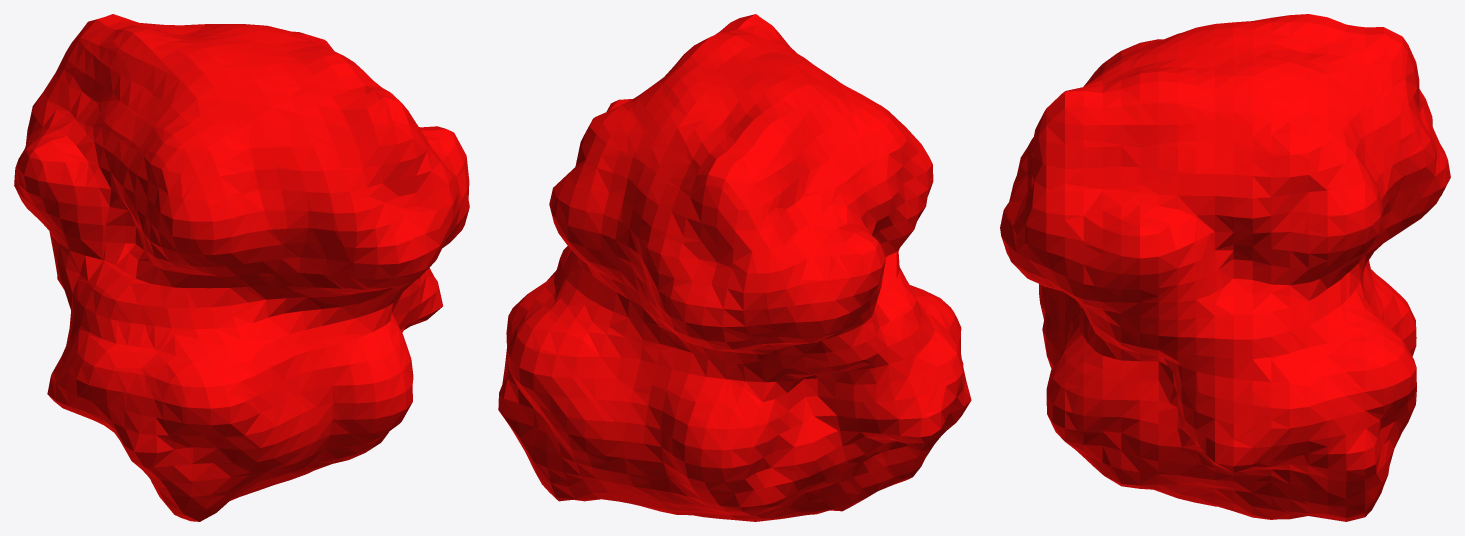
Rendered from menI_coarse.dae.
3 views of the same model, side by side, from view 1: azimuth 30°, elevation 25°; view 2: azimuth 150°, elevation 25°; view 3: azimuth 270°, elevation 25° (orthographic). The views are drawn at different scales.
Parts seen in each view (by area): view 1: menI; view 2: menI; view 3: menI.
Boxes of the visible parts, bbox=[...] form: menI: bbox=[14, 14, 469, 521]; menI: bbox=[498, 14, 971, 521]; menI: bbox=[1000, 14, 1450, 521].
Bounding box in the file's own units: 61.42 × 63.29 × 58.87.
